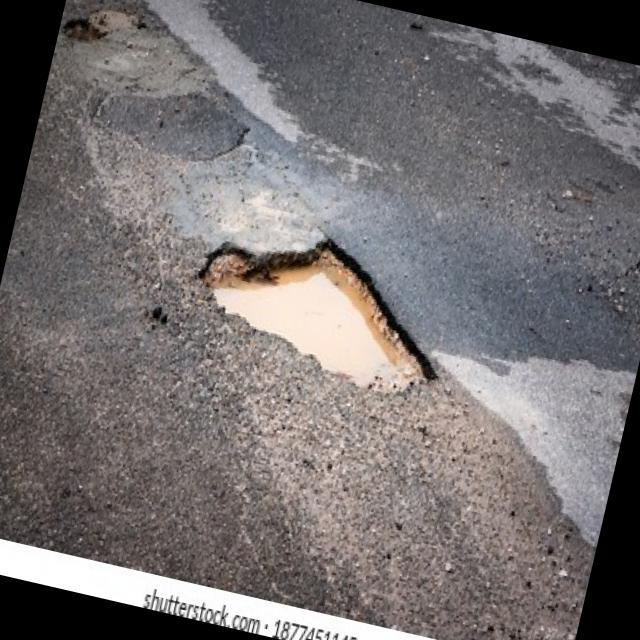Pothole: (182, 207, 465, 406), (58, 0, 141, 54)
